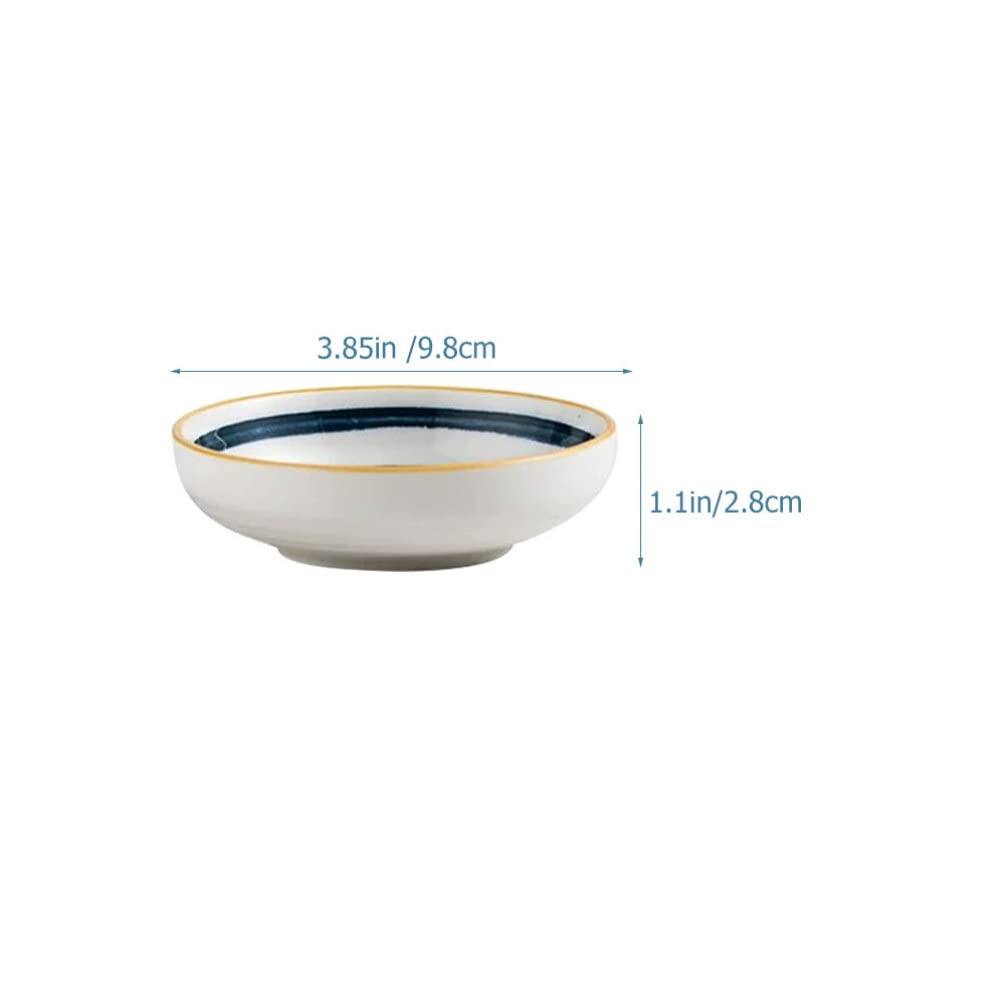/9.8cm: (406, 336, 495, 363)
1.1in/2.8cm: (651, 490, 801, 518)
3.85in: (318, 337, 395, 359)
